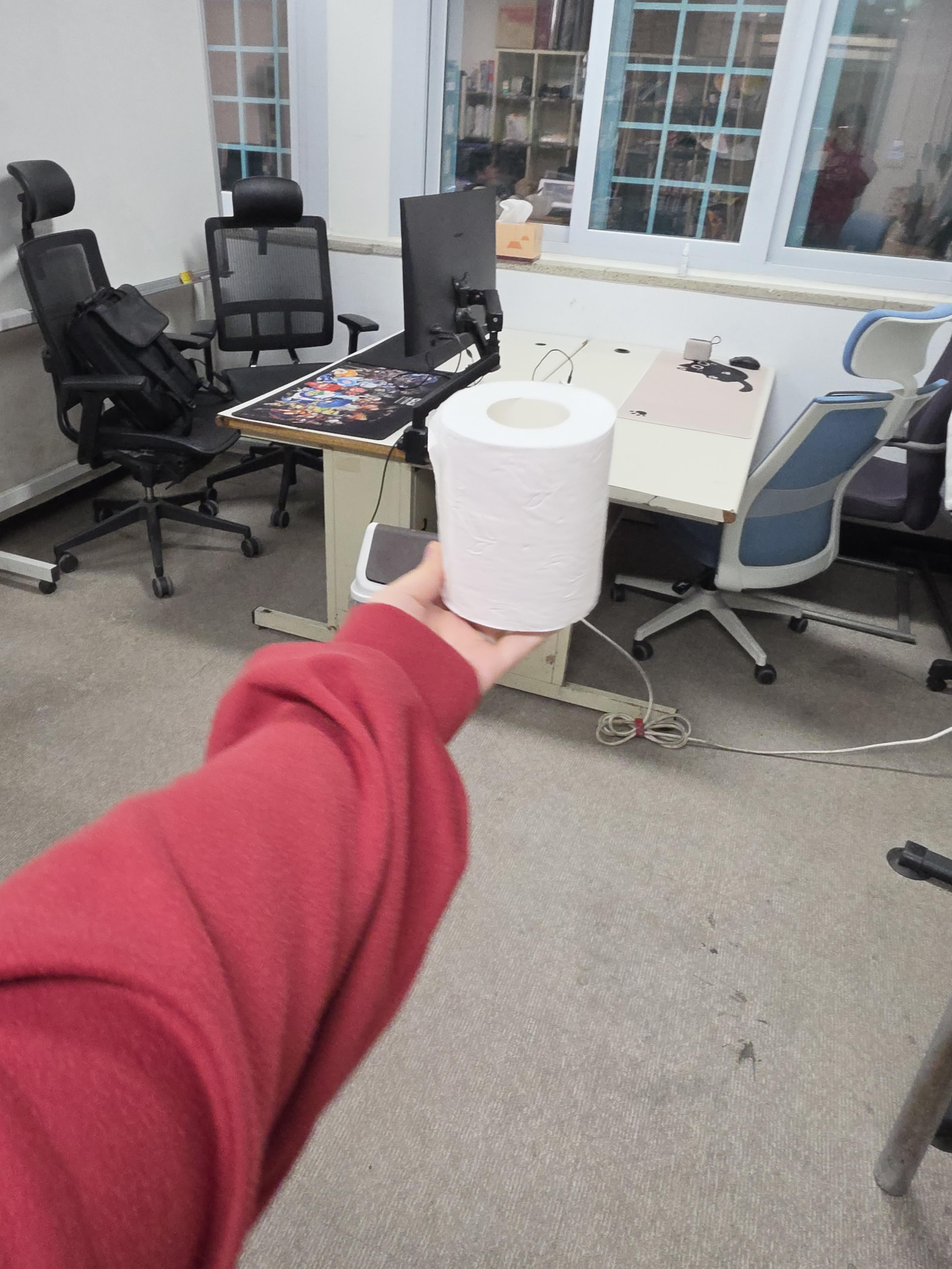tissue: (428, 381, 616, 633), (496, 198, 543, 261)
